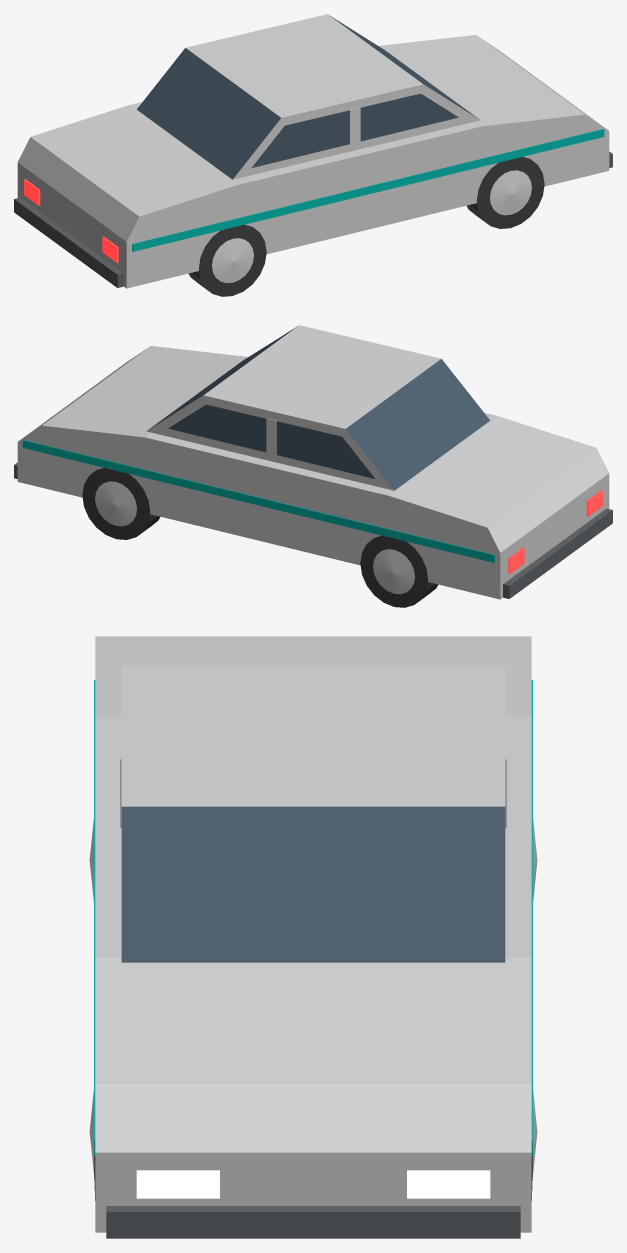
The model's file is nexfleet-berline.glb.
3 renders of one model, top to bottom at view 1: azimuth 30°, elevation 25°; view 2: azimuth 150°, elevation 25°; view 3: azimuth 270°, elevation 25°, orthographic. The views are drawn at different scales.
Visible parts, largest first — view 1: NexFleet berline; view 2: NexFleet berline; view 3: NexFleet berline.
Part boxes in pixels (bbox=[...]): NexFleet berline: bbox=[14, 14, 612, 296]; NexFleet berline: bbox=[14, 325, 612, 607]; NexFleet berline: bbox=[89, 636, 537, 1238].
Size of the model in its own units: 4.67 by 1.44 by 1.83.
